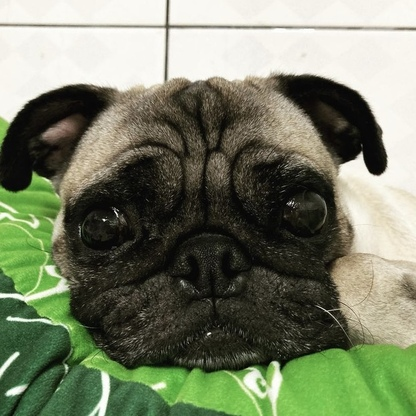Pug: (1, 67, 416, 383)
